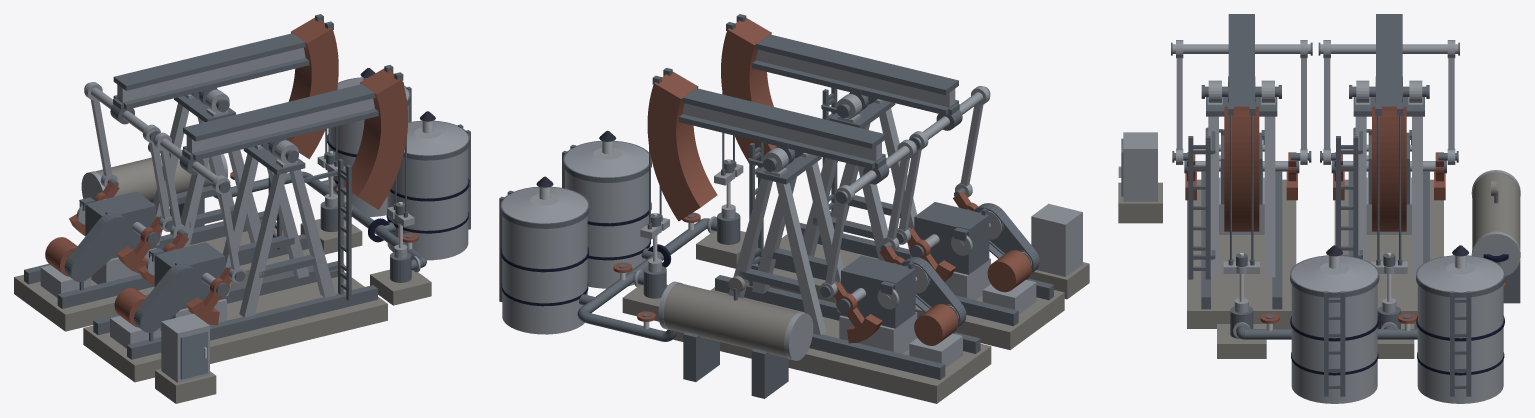
Rendered from oil_well_lvl3.glb.
3 views of the same model, side by side, from view 1: azimuth 30°, elevation 25°; view 2: azimuth 150°, elevation 25°; view 3: azimuth 270°, elevation 25° (orthographic). The views are drawn at different scales.
Visible parts, largest first — view 1: oil_well; view 2: oil_well; view 3: oil_well.
Boxes of the visible parts, x1,y1,x2,y2 form: oil_well: [14, 14, 470, 403]; oil_well: [499, 14, 1089, 403]; oil_well: [1118, 14, 1520, 403].
Size of the model in its own units: 1 by 0.5342 by 0.8182.
